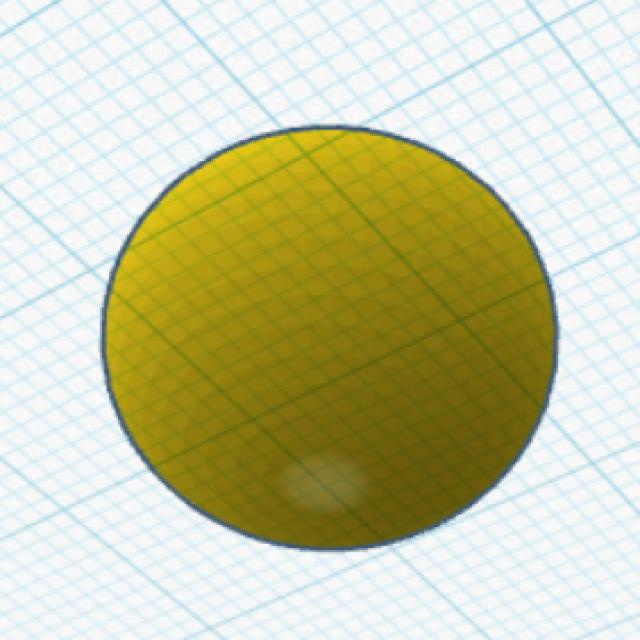sphere: (95, 119, 563, 557)
